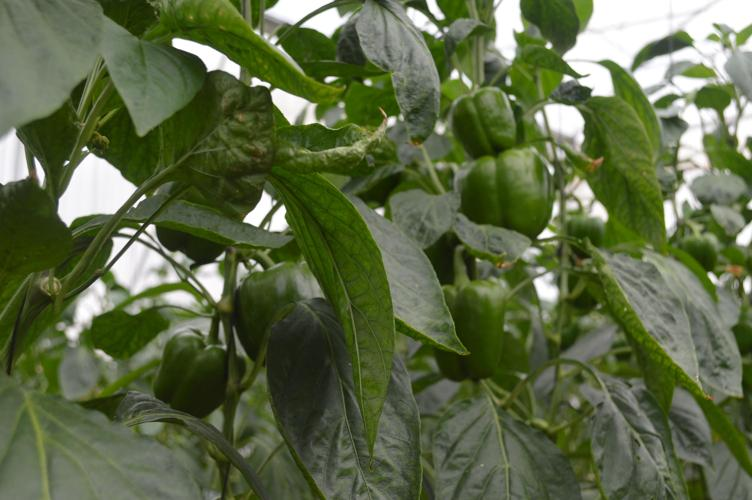BellPepper: (218, 256, 332, 361), (458, 144, 569, 240), (426, 271, 509, 382), (447, 77, 544, 158), (146, 333, 248, 408)
